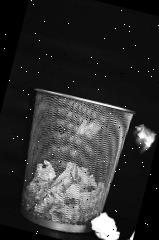paper: (20, 153, 110, 230), (86, 209, 123, 240), (128, 122, 157, 156), (74, 116, 102, 140), (127, 229, 134, 240)
